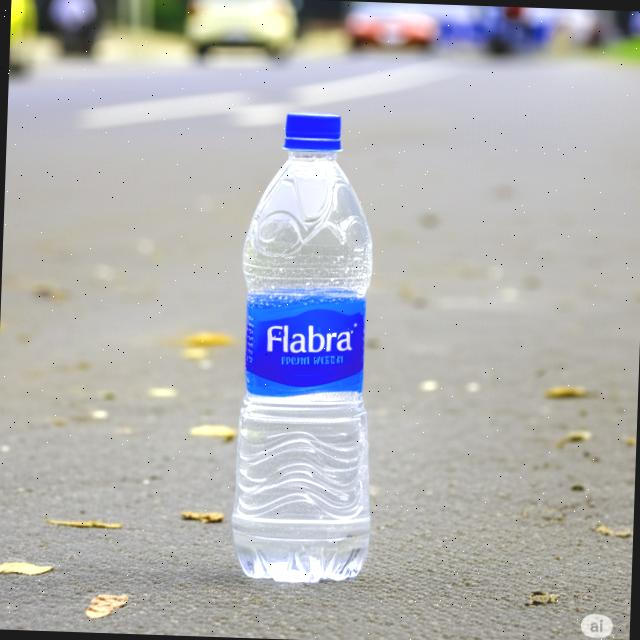plastic: (229, 108, 384, 588)
